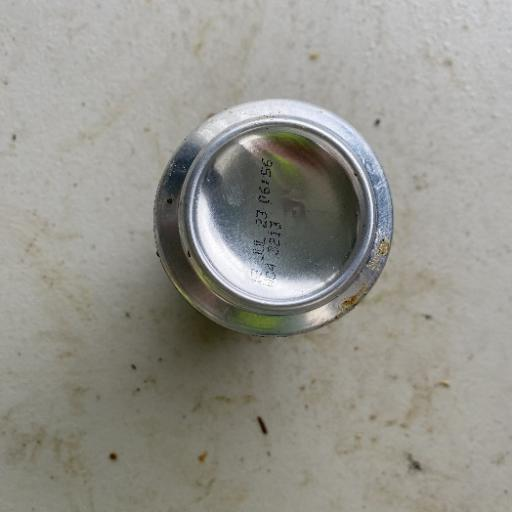Metal: (150, 95, 396, 340)
